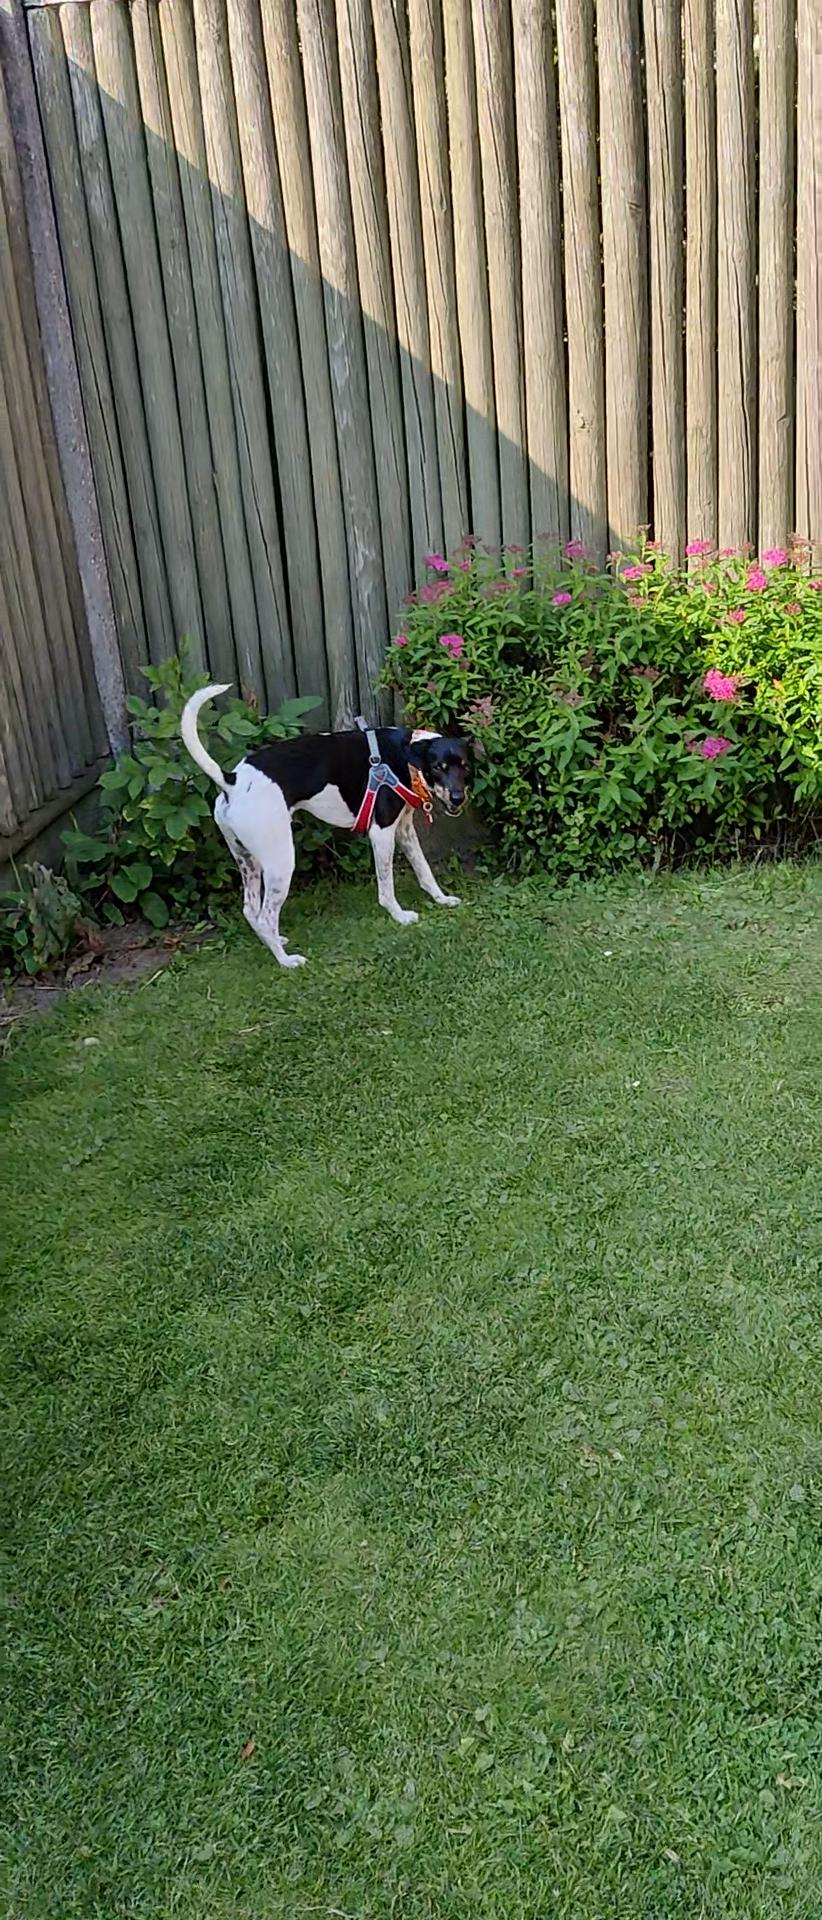Dog: (174, 678, 490, 975)
